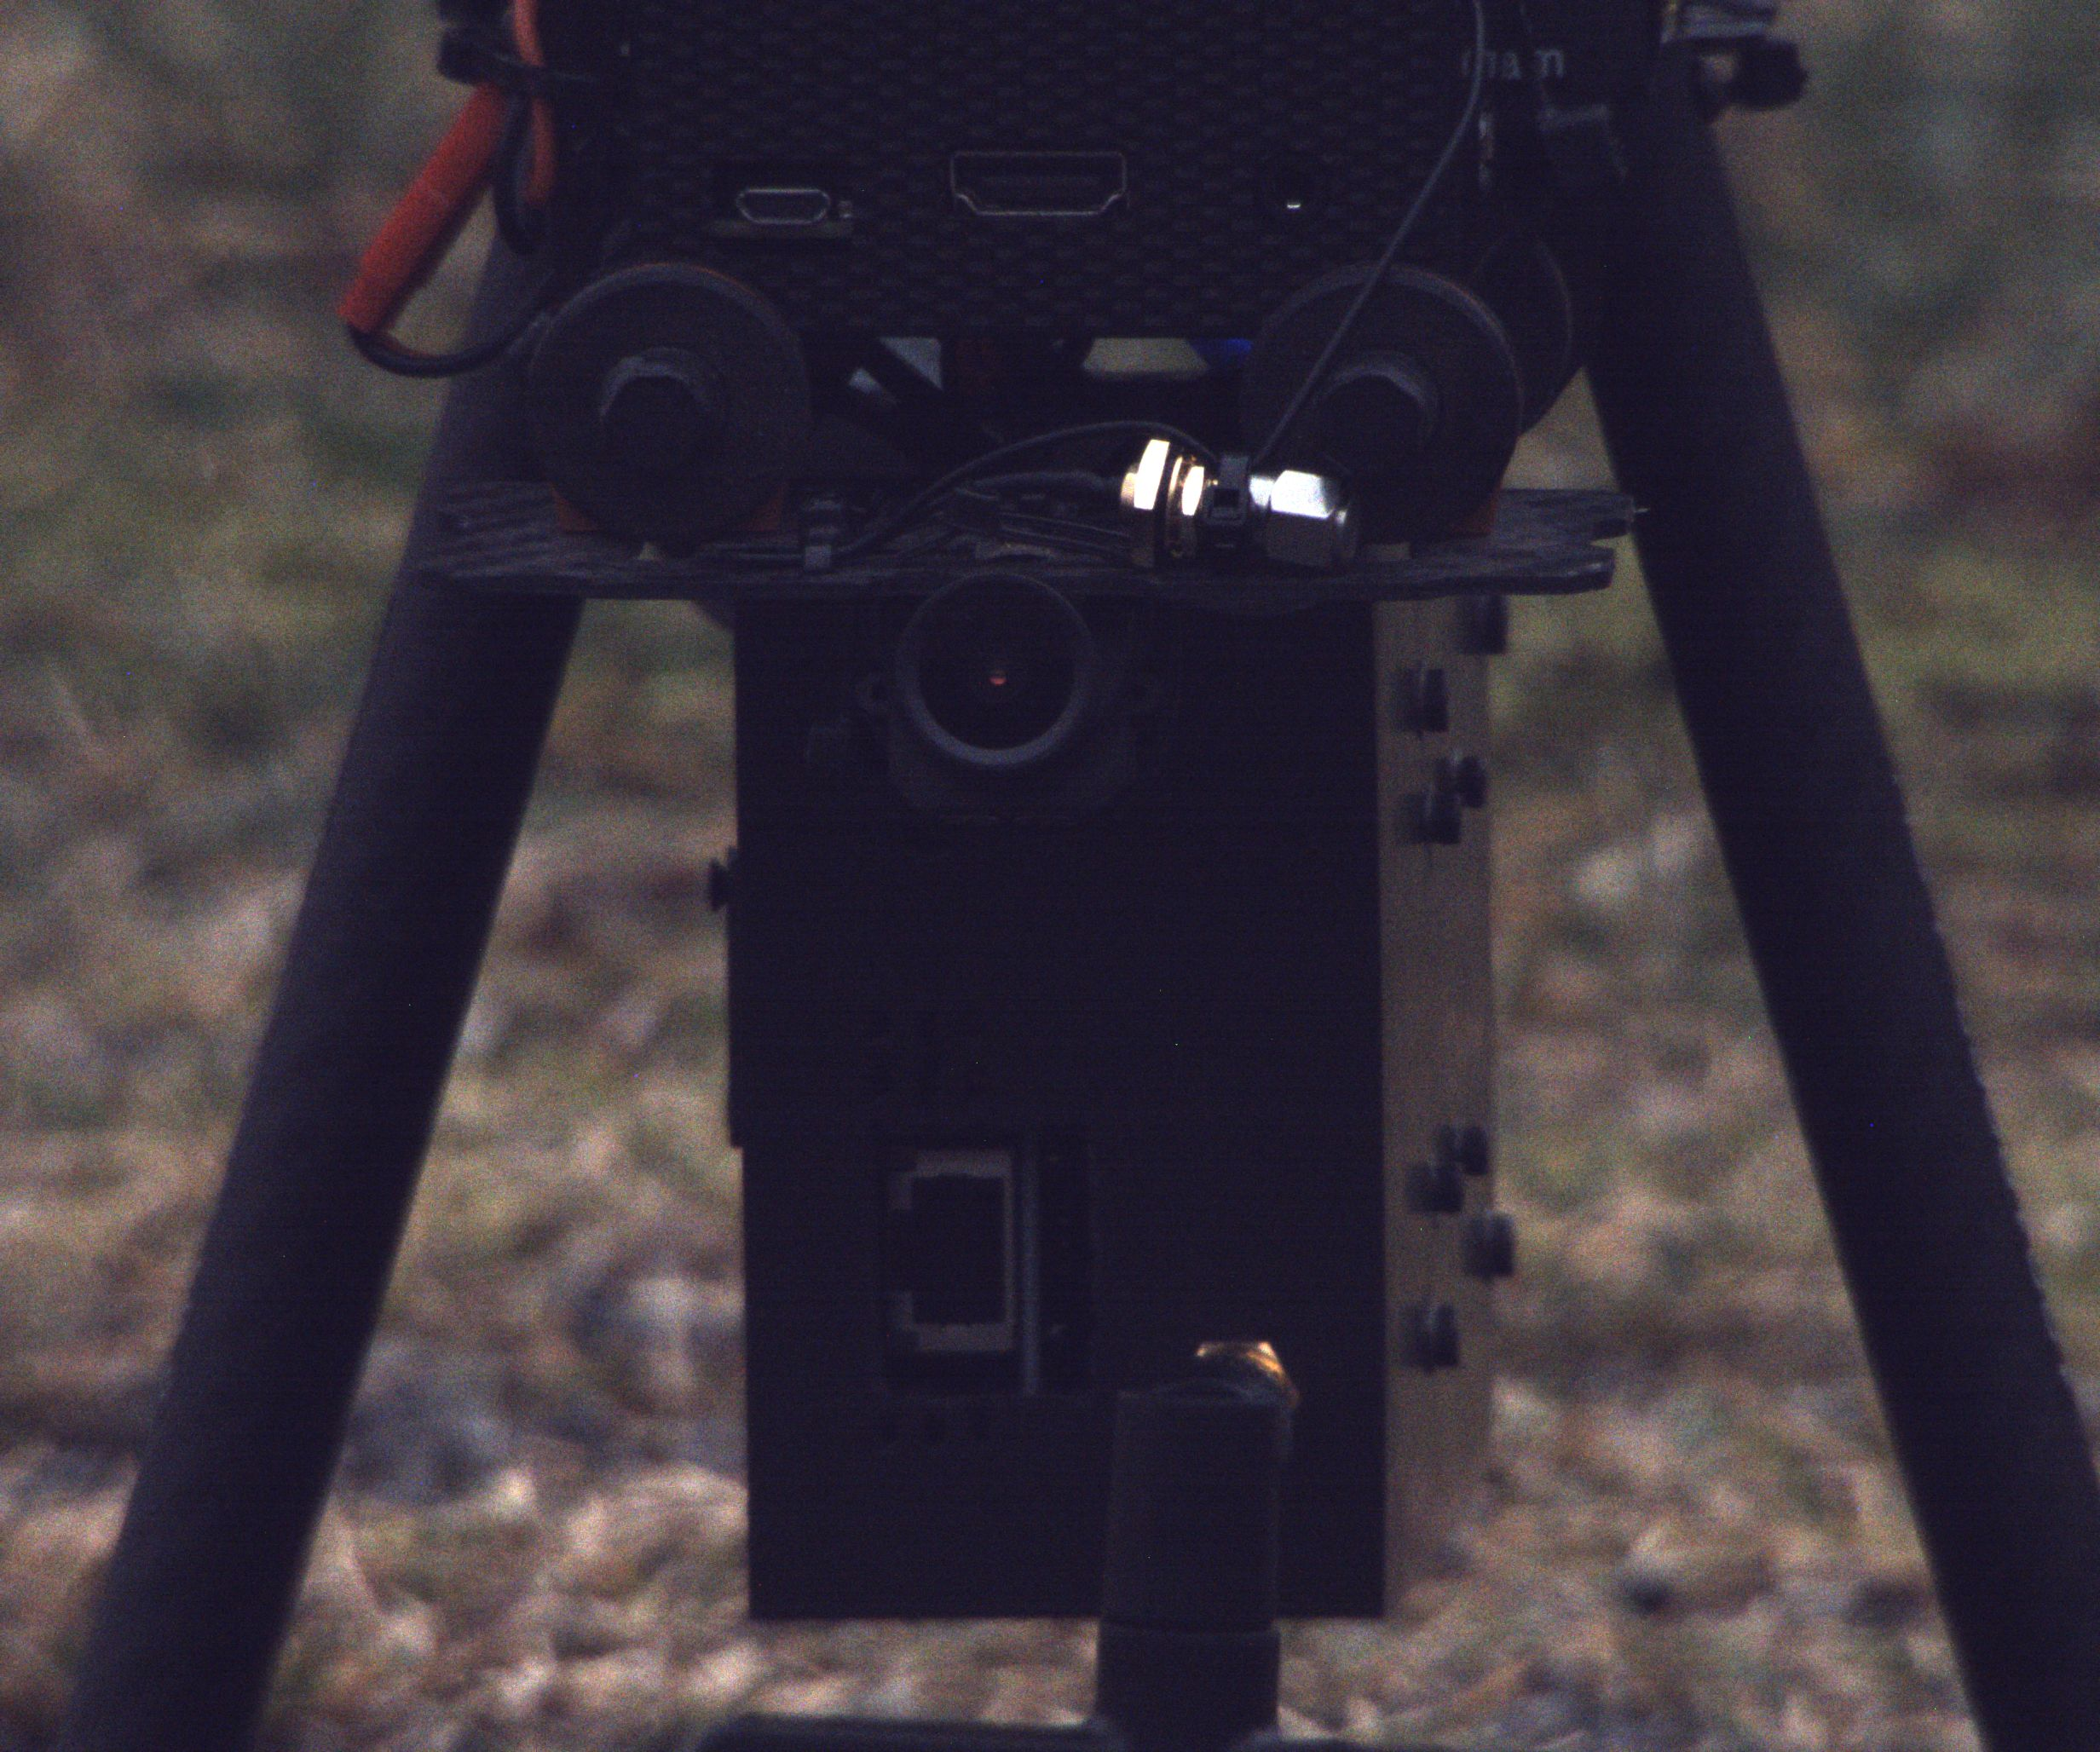Drohne: (255, 7, 2046, 1752)
